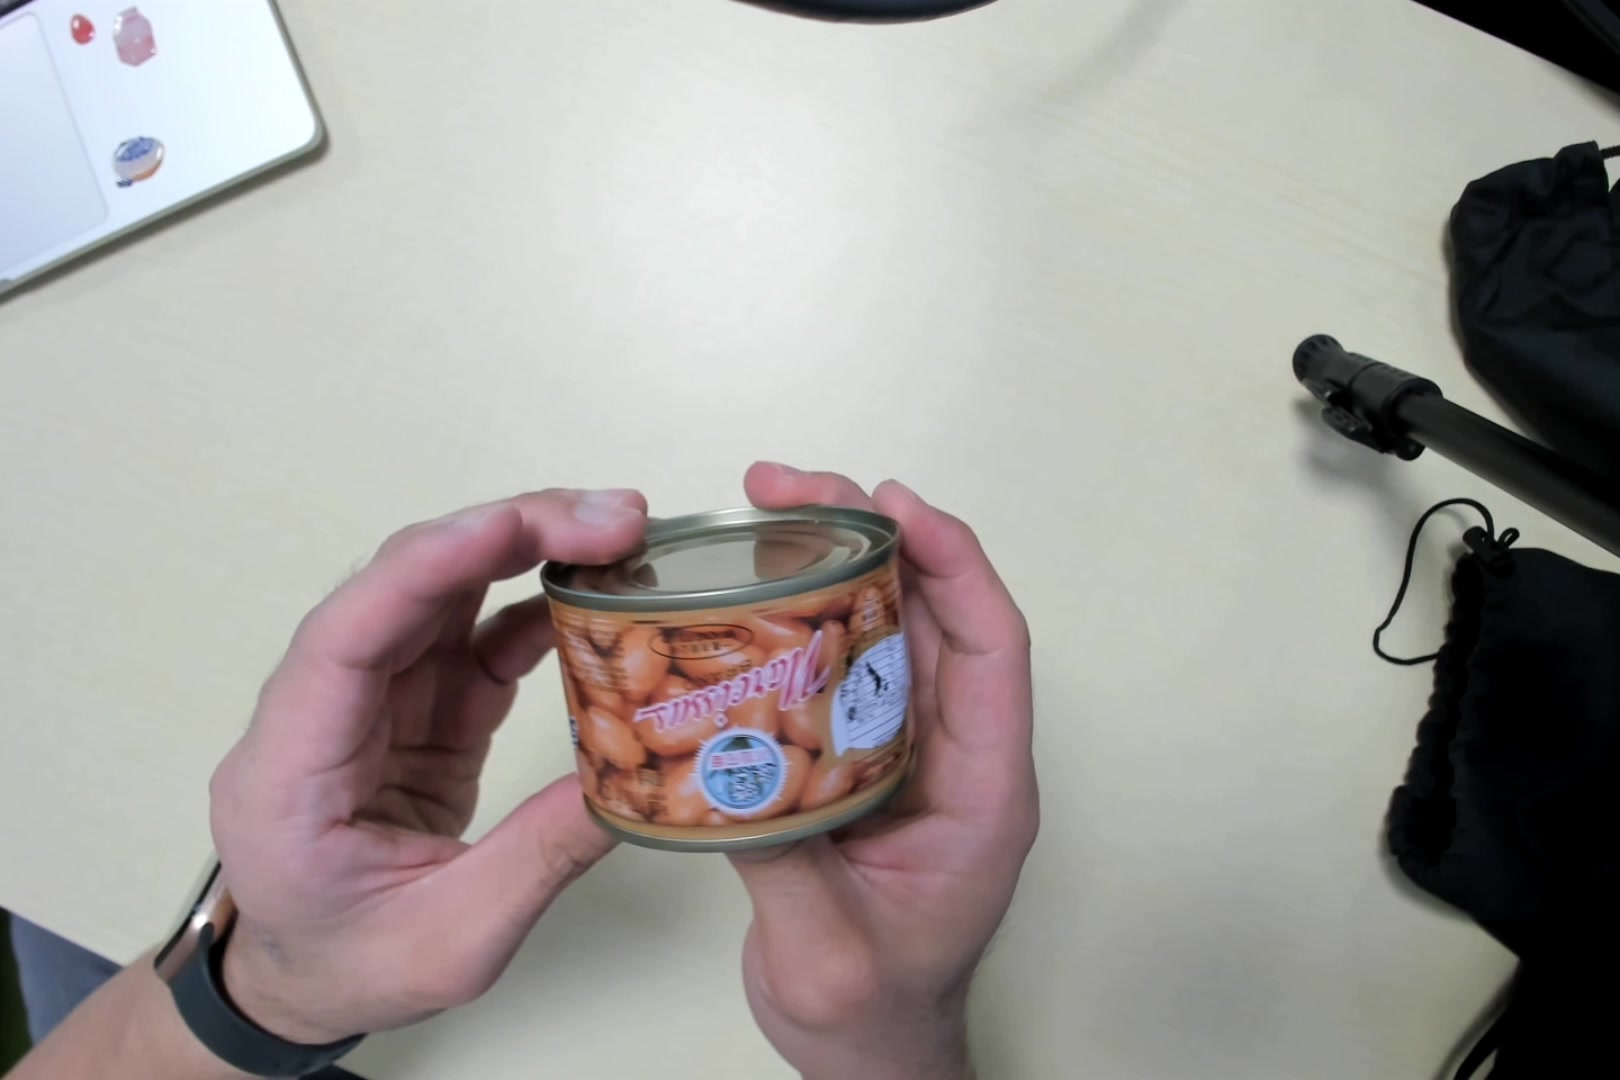CannedBraisedPeanuts_100-199g_NonHalal_NonHealthy: (545, 513, 922, 829)
